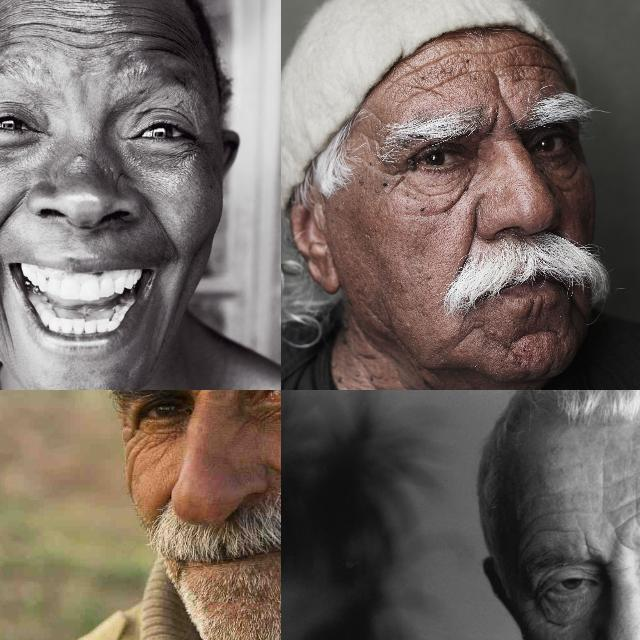chin: (515, 324, 555, 344), (461, 318, 487, 342), (526, 296, 544, 324)
crows_feet: (520, 591, 554, 629), (120, 420, 144, 458), (382, 160, 406, 192)
forehead: (82, 22, 178, 62), (0, 10, 68, 54), (514, 500, 578, 542), (400, 61, 438, 103), (518, 56, 558, 88), (442, 49, 472, 90), (596, 463, 612, 513), (480, 42, 512, 58)
frown_line: (491, 82, 513, 128), (608, 522, 634, 556)
gummy_smile: (142, 195, 178, 252), (0, 188, 27, 241), (459, 220, 481, 270), (266, 461, 281, 489)
masseter: (361, 298, 393, 328), (444, 184, 466, 216)
sad_smile: (0, 275, 17, 348)
